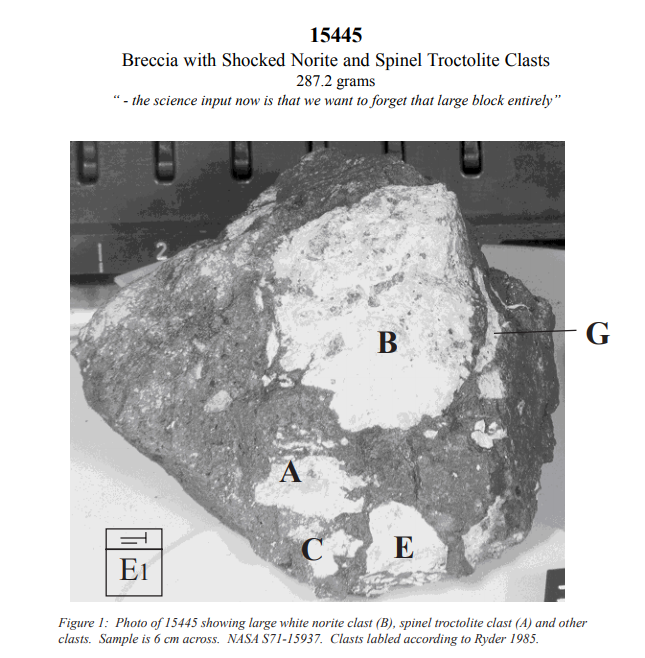Breccia: (95, 168, 572, 602), (171, 306, 539, 538)
